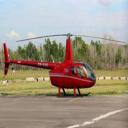helicopter: (3, 12, 109, 104)
